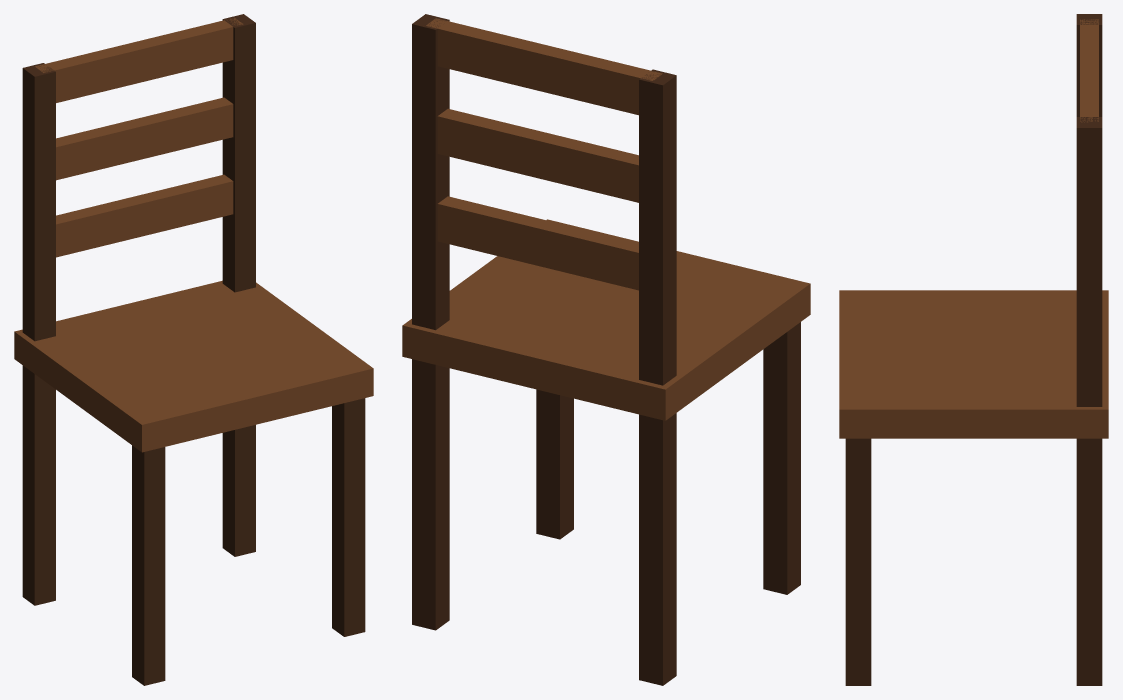
Rendered from chair.obj.
The picture shows the model from 3 angles, left to right: view 1: azimuth 30°, elevation 25°; view 2: azimuth 150°, elevation 25°; view 3: azimuth 270°, elevation 25°; orthographic projection. The views are drawn at different scales.
Visible parts, largest first — view 1: Cube, Cube.005, Cube.006, Cube.001, Cube.003, Cube.009, Cube.002, Cube.007, Cube.008, Cube.004; view 2: Cube, Cube.005, Cube.006, Cube.002, Cube.009, Cube.004, Cube.001, Cube.007, Cube.008, Cube.003; view 3: Cube, Cube.006, Cube.003, Cube.004, Cube.009, Cube.005.
Part boxes in pixels (<box>): Cube: <box>14,280,373,452</box>; Cube.005: <box>22,63,55,341</box>; Cube.006: <box>222,14,255,292</box>; Cube.001: <box>132,445,165,685</box>; Cube.003: <box>332,398,365,636</box>; Cube.009: <box>35,17,243,102</box>; Cube.002: <box>22,365,55,605</box>; Cube.007: <box>56,174,233,257</box>; Cube.008: <box>56,97,233,180</box>; Cube.004: <box>222,425,255,556</box>; Cube: <box>402,219,810,420</box>; Cube.005: <box>639,69,676,385</box>; Cube.006: <box>412,14,449,330</box>; Cube.002: <box>639,413,676,685</box>; Cube.009: <box>426,18,662,115</box>; Cube.004: <box>412,359,449,630</box>; Cube.001: <box>763,322,800,594</box>; Cube.007: <box>437,196,638,290</box>; Cube.008: <box>437,108,638,202</box>; Cube.003: <box>536,389,573,539</box>; Cube: <box>839,290,1108,438</box>; Cube.006: <box>1076,117,1102,406</box>; Cube.003: <box>845,438,871,685</box>; Cube.004: <box>1076,438,1102,685</box>; Cube.009: <box>1080,19,1098,122</box>; Cube.005: <box>1076,14,1102,116</box>.
Bounding box in the file's own units: 0.44 × 0.96 × 0.42.
